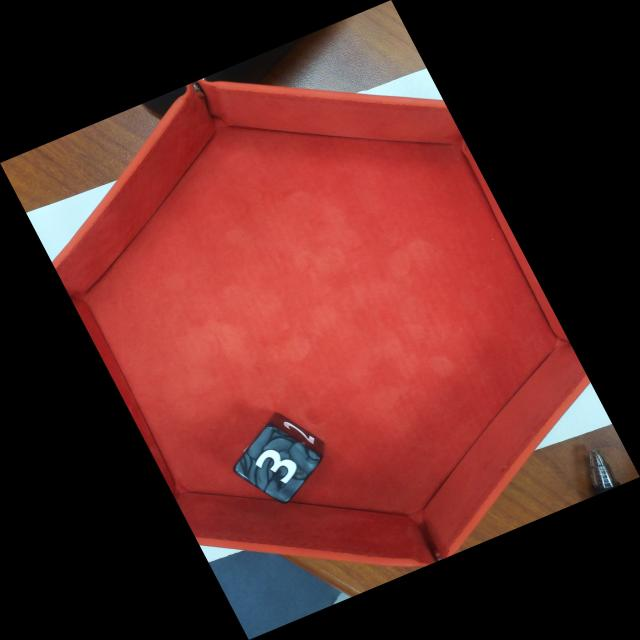dice: (238, 426, 325, 502)
